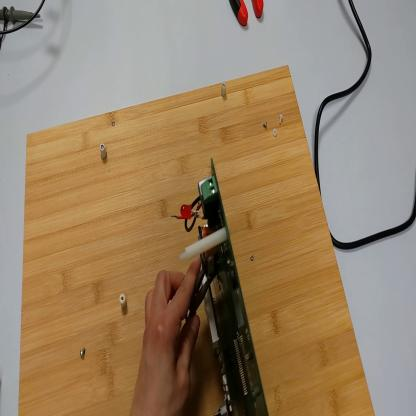hand: (132, 264, 202, 416)
low voltage board: (172, 159, 270, 415)
oscilloscope probe tip: (2, 9, 42, 24)
pliers: (185, 268, 217, 324), (230, 3, 265, 28)
working area: (19, 66, 375, 415)
